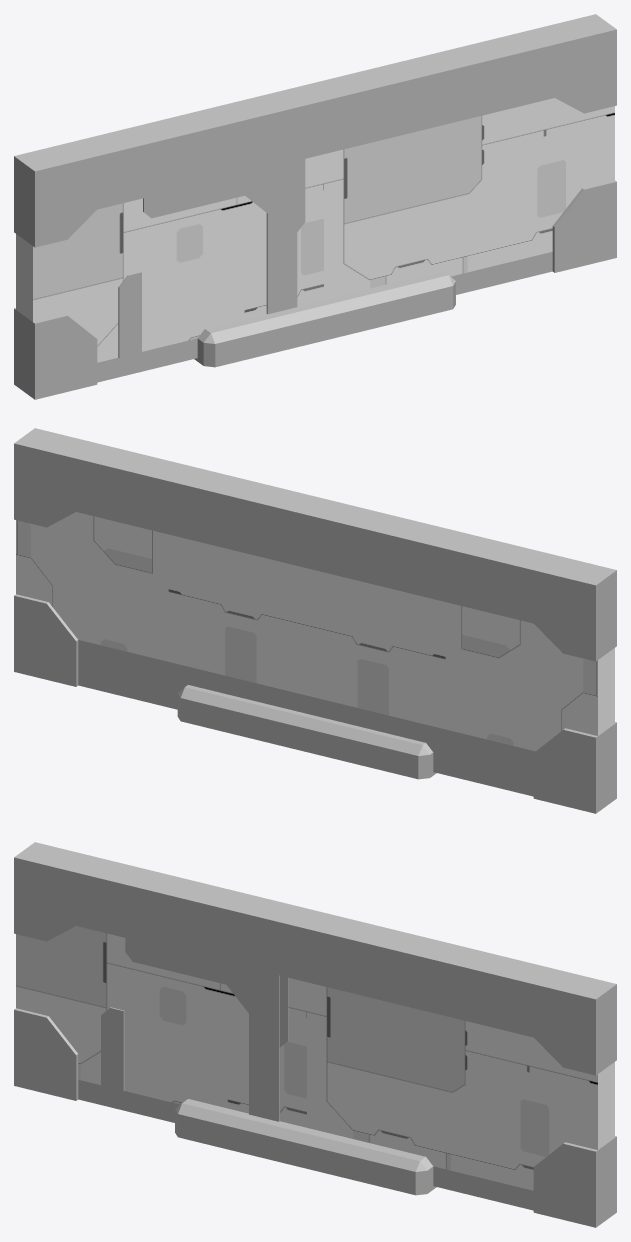
File: SM_Wall_8x3_1.fbx
The picture shows the model from 3 angles, top to bottom: view 1: azimuth 30°, elevation 25°; view 2: azimuth 150°, elevation 25°; view 3: azimuth 330°, elevation 25°; orthographic projection.
Parts seen in each view (by area): view 1: SM_Wall_8x3_1; view 2: SM_Wall_8x3_1; view 3: SM_Wall_8x3_1.
Boxes of the visible parts, bbox=[...] form: SM_Wall_8x3_1: bbox=[14, 14, 616, 399]; SM_Wall_8x3_1: bbox=[14, 428, 616, 813]; SM_Wall_8x3_1: bbox=[14, 842, 616, 1227].
Size of the model in its own units: 800 by 305 by 82.27.
